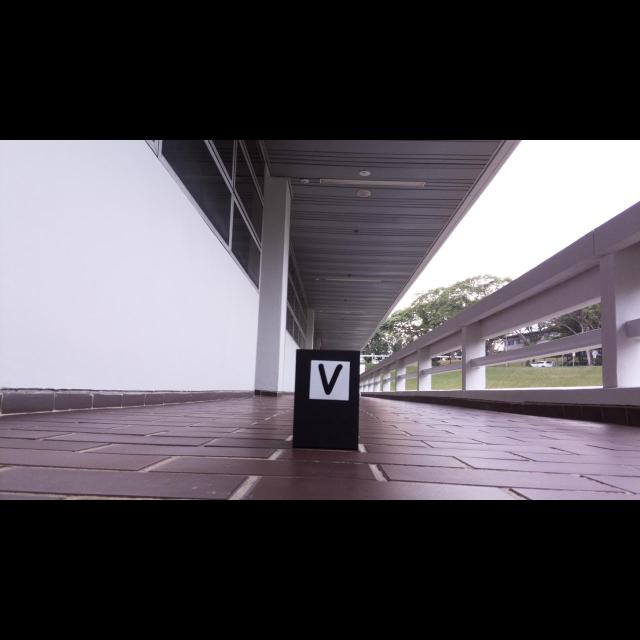V: (319, 363, 343, 395)
